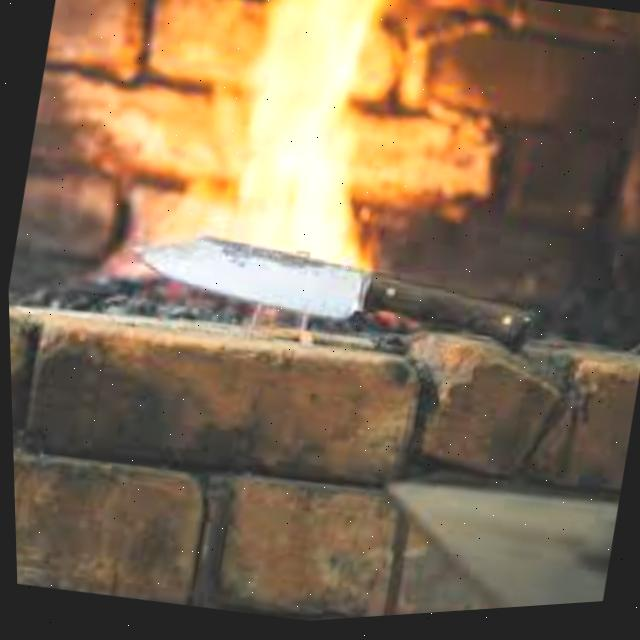knife: (123, 205, 543, 379)
